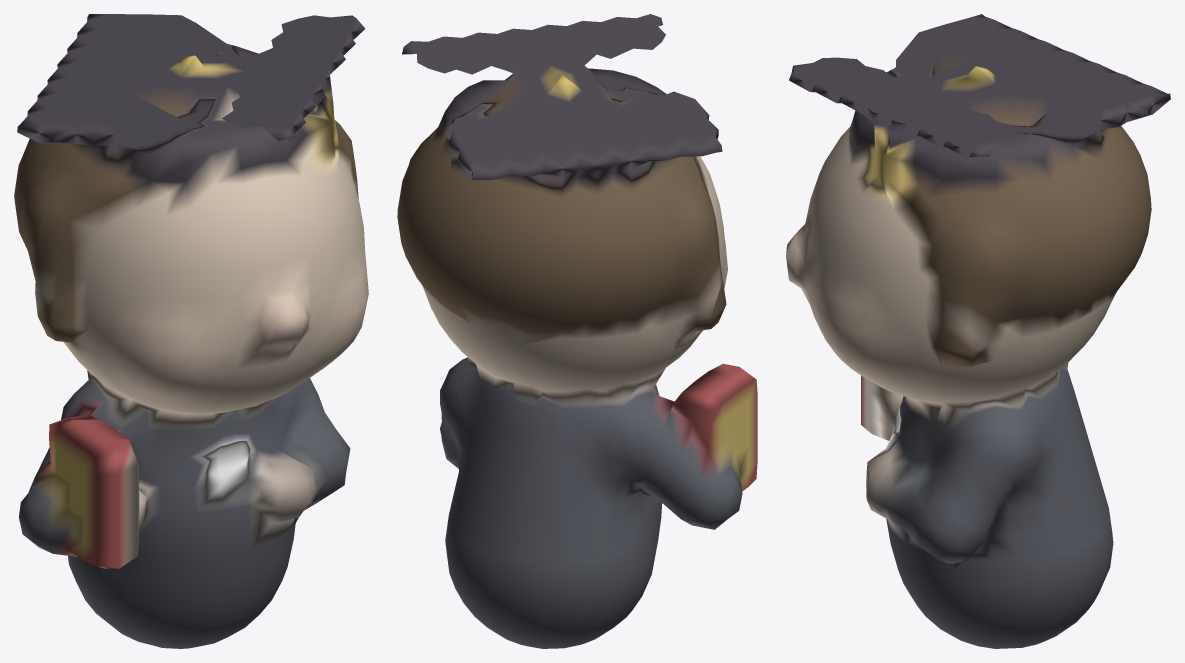
Rendered from rider_c06_lo.glb.
The picture shows the model from 3 angles, left to right: view 1: azimuth 30°, elevation 25°; view 2: azimuth 150°, elevation 25°; view 3: azimuth 270°, elevation 25°; orthographic projection. The views are drawn at different scales.
Visible parts, largest first — view 1: rider_c06_lo; view 2: rider_c06_lo; view 3: rider_c06_lo.
Boxes of the visible parts, x1,y1,x2,y2 form: rider_c06_lo: (14, 14, 368, 648); rider_c06_lo: (397, 14, 757, 648); rider_c06_lo: (786, 14, 1170, 648).
Bounding box in the file's own units: 25.32 × 41.51 × 25.27.
